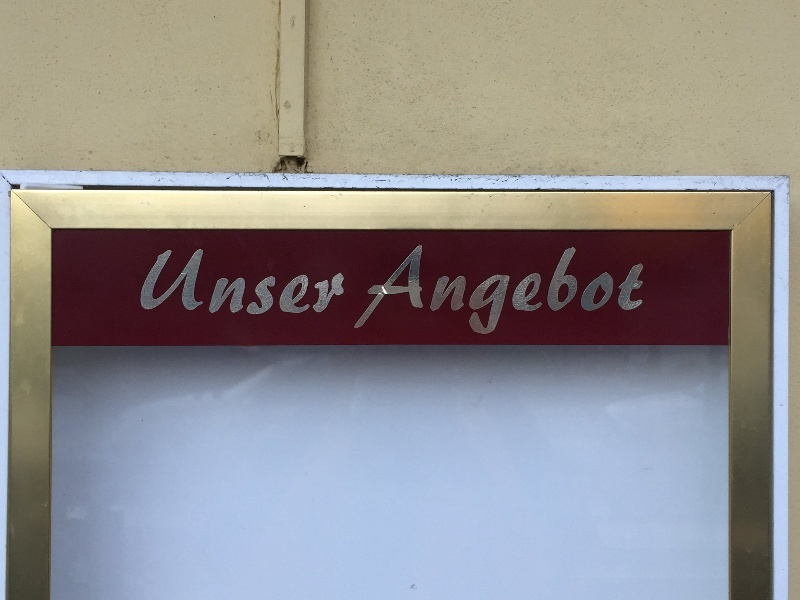text: (401, 244, 416, 336), (417, 244, 432, 336), (433, 244, 448, 336), (449, 244, 464, 336), (465, 244, 480, 336), (481, 244, 496, 336), (497, 244, 512, 336), (513, 244, 528, 336), (529, 244, 544, 336), (545, 244, 560, 336), (561, 244, 576, 336), (577, 244, 592, 336), (593, 244, 608, 336), (609, 244, 624, 336), (625, 244, 640, 336), (161, 249, 176, 318), (177, 249, 192, 318), (193, 249, 208, 318), (209, 249, 224, 318), (225, 249, 240, 318), (241, 249, 256, 318), (257, 249, 272, 318), (273, 249, 288, 318), (289, 249, 304, 318), (305, 249, 320, 318), (321, 249, 336, 318), (337, 249, 352, 318), (641, 244, 643, 336), (353, 249, 355, 318)
